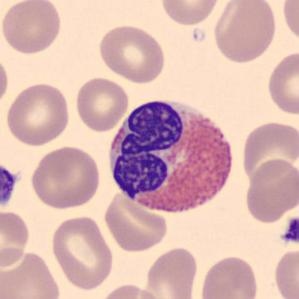Eosinophil: (102, 92, 241, 222)
Lymphocyte: (0, 158, 20, 212)
Platelets: (0, 158, 20, 213), (281, 215, 299, 246)
RBC: (48, 213, 116, 292), (27, 143, 103, 210), (102, 187, 170, 254), (5, 80, 72, 148), (211, 0, 279, 65), (96, 22, 167, 84), (239, 118, 297, 184), (243, 156, 298, 225), (0, 0, 63, 56), (73, 74, 131, 132), (0, 247, 63, 299), (142, 244, 200, 299), (197, 253, 260, 299), (265, 48, 298, 117), (0, 208, 32, 271), (158, 0, 222, 27), (272, 247, 298, 299), (96, 281, 168, 299), (280, 0, 299, 45), (0, 53, 11, 109)
